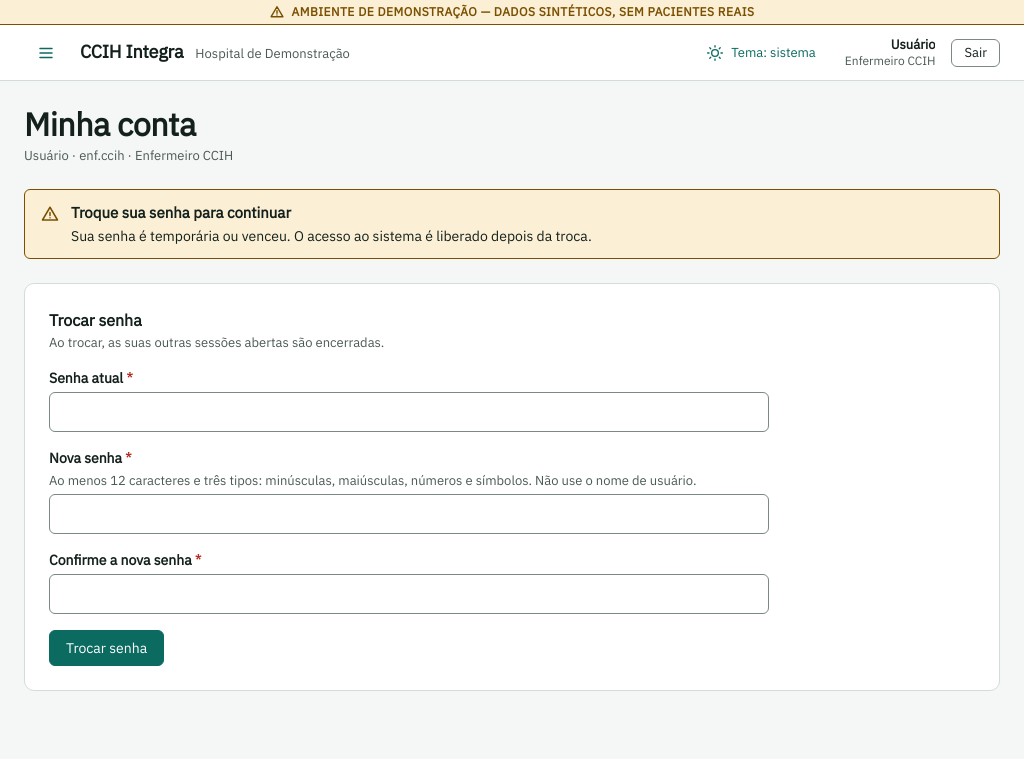
Scenario: password change › sends a user with a temporary password to "Minha conta" and releases the app after the change
Expected: the text "Troque sua senha para continuar" is shown, [71,203,291,222]
Type "Tmp-temporaria-1!" into the password field labelled "Senha atual *" at (409, 412), box [49,392,769,432]
Type "curta" into the password field labelled "Nova senha *" at (409, 514), box [49,494,769,534]
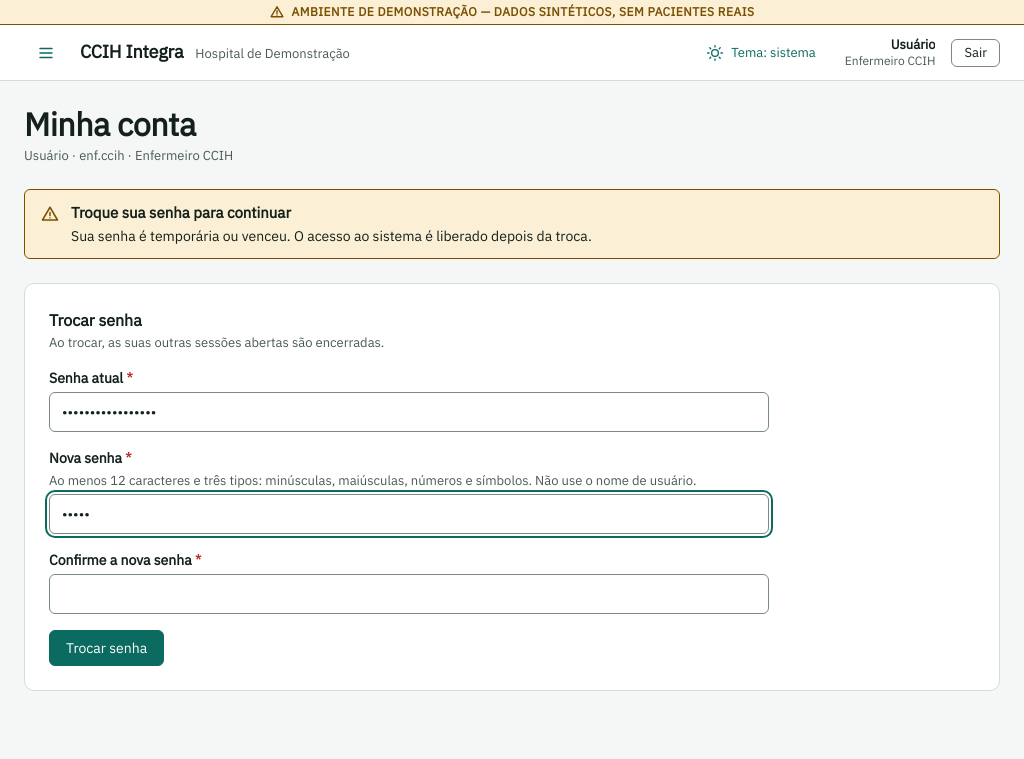
Type "curta" into the password field labelled "Confirme a nova senha *" at (409, 594), box [49,574,769,614]
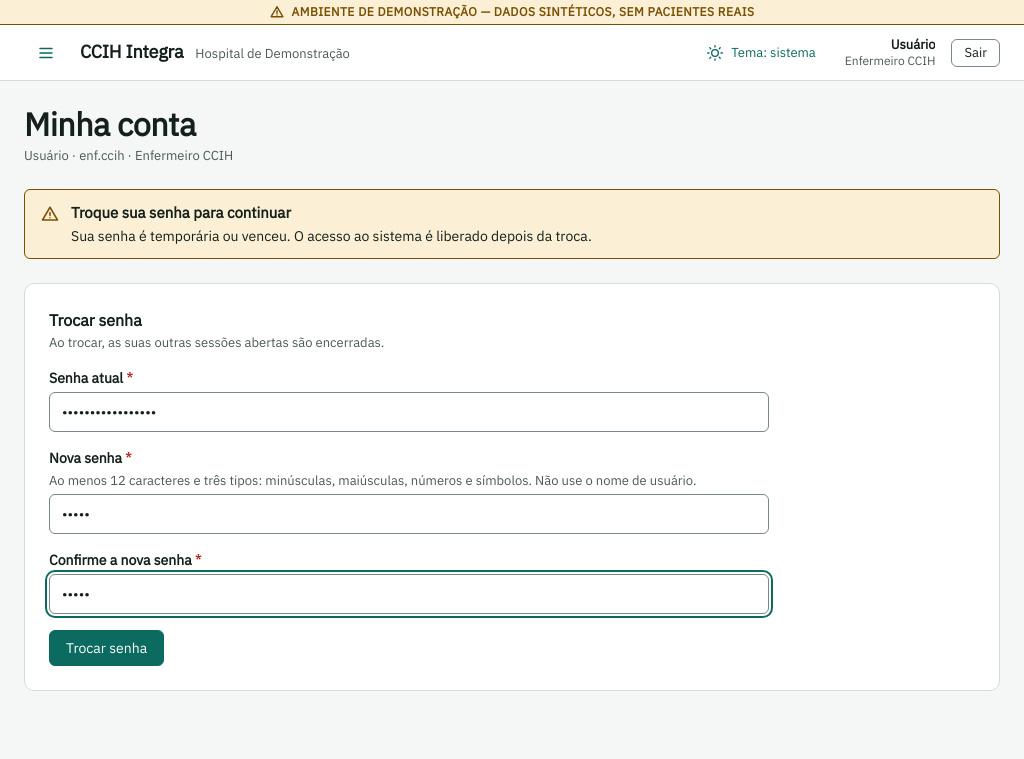
Click the button "Trocar senha" at (107, 648), box [49,630,164,666]
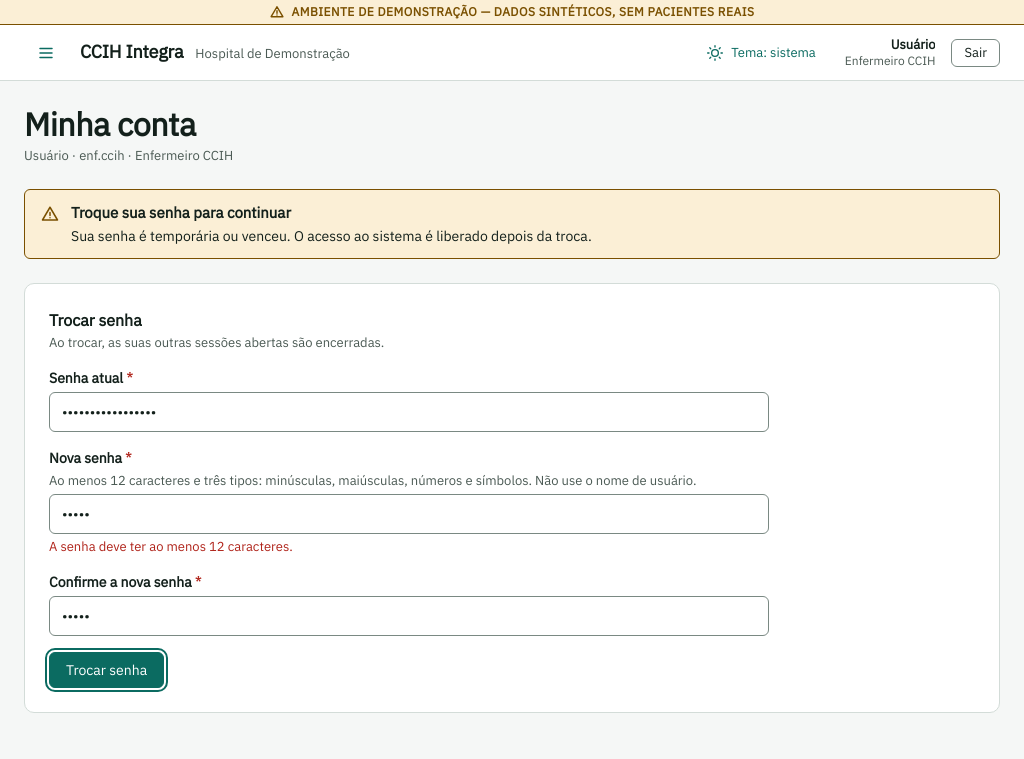
Result: the text "A senha deve ter ao menos 12 caracteres." is shown at [49,538,293,555]
Type "Nova-Senha-Forte-26" into the password field labelled "Nova senha *" at (409, 514), box [49,494,769,534]
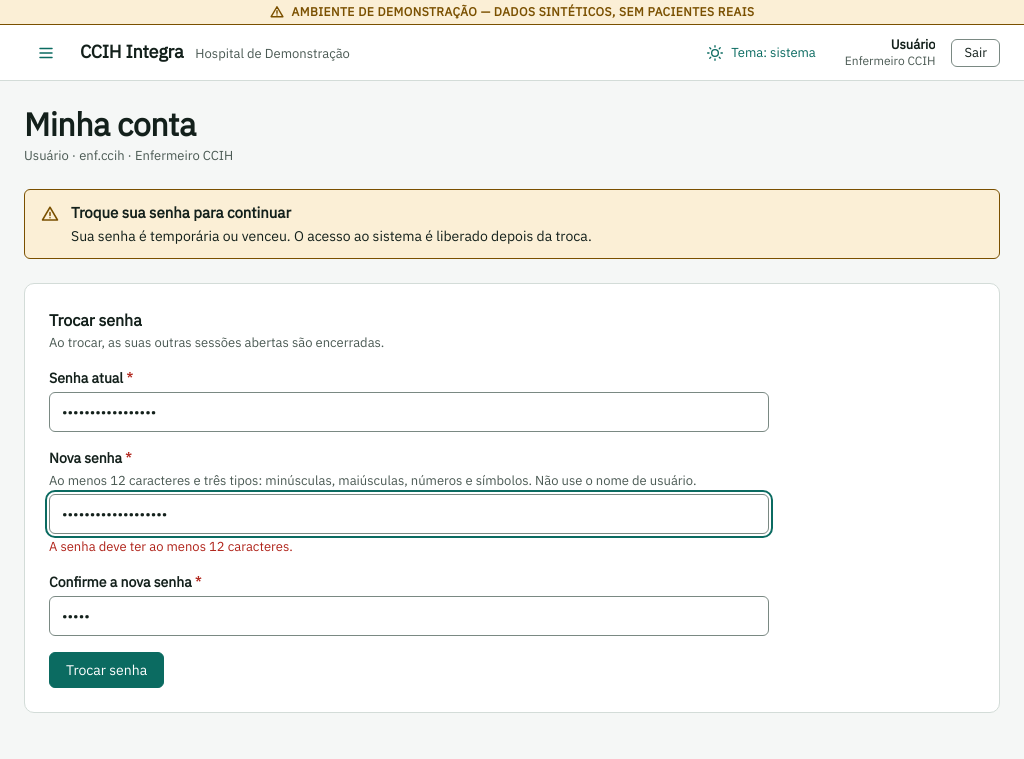
Type "Nova-Senha-Forte-26" into the password field labelled "Confirme a nova senha *" at (409, 616), box [49,596,769,636]
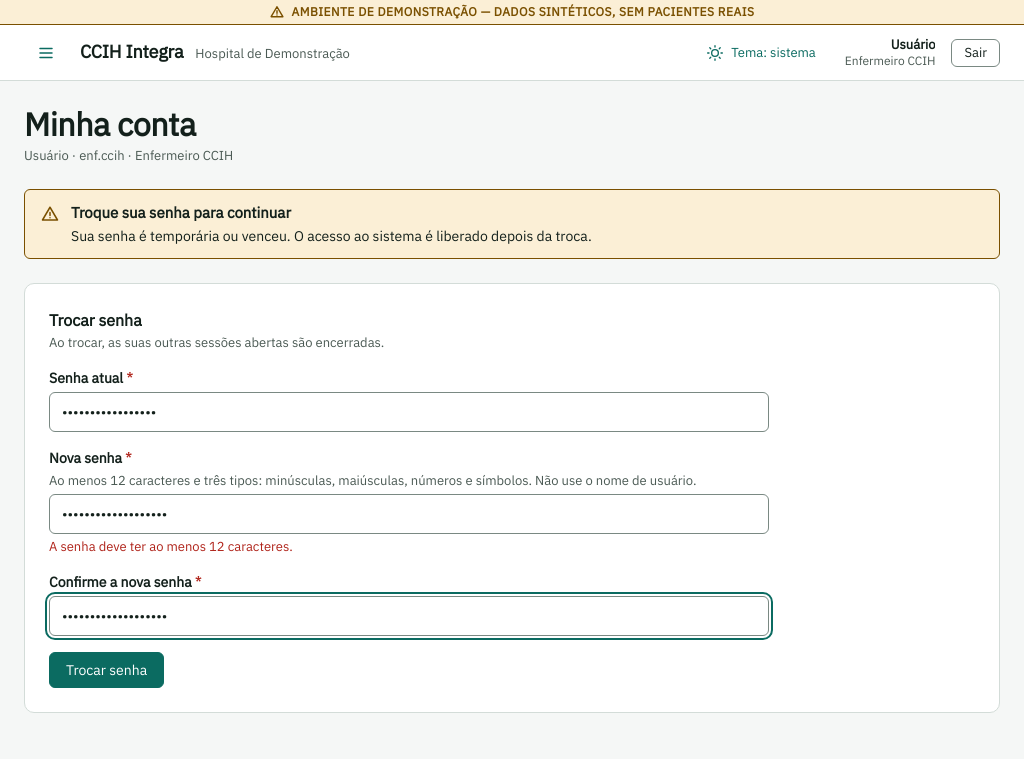
Click the button "Trocar senha" at (107, 670), box [49,652,164,688]
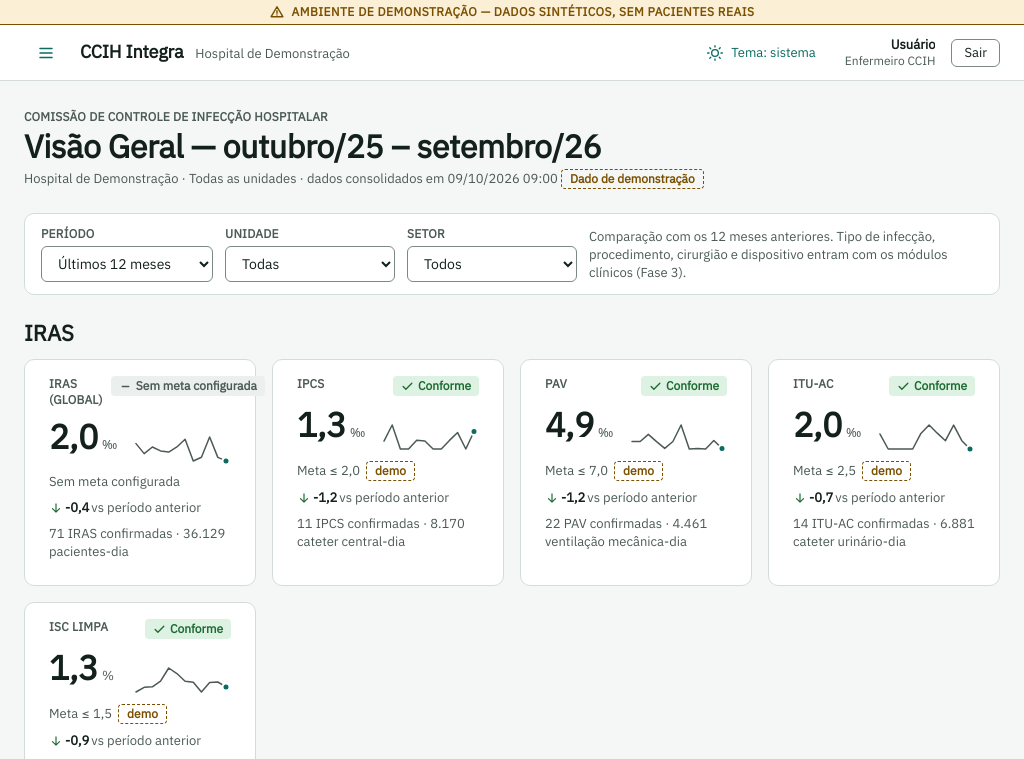
Result: the heading "Visão Geral — outubro/25 – setembro/26" is shown at [24,125,601,167]
